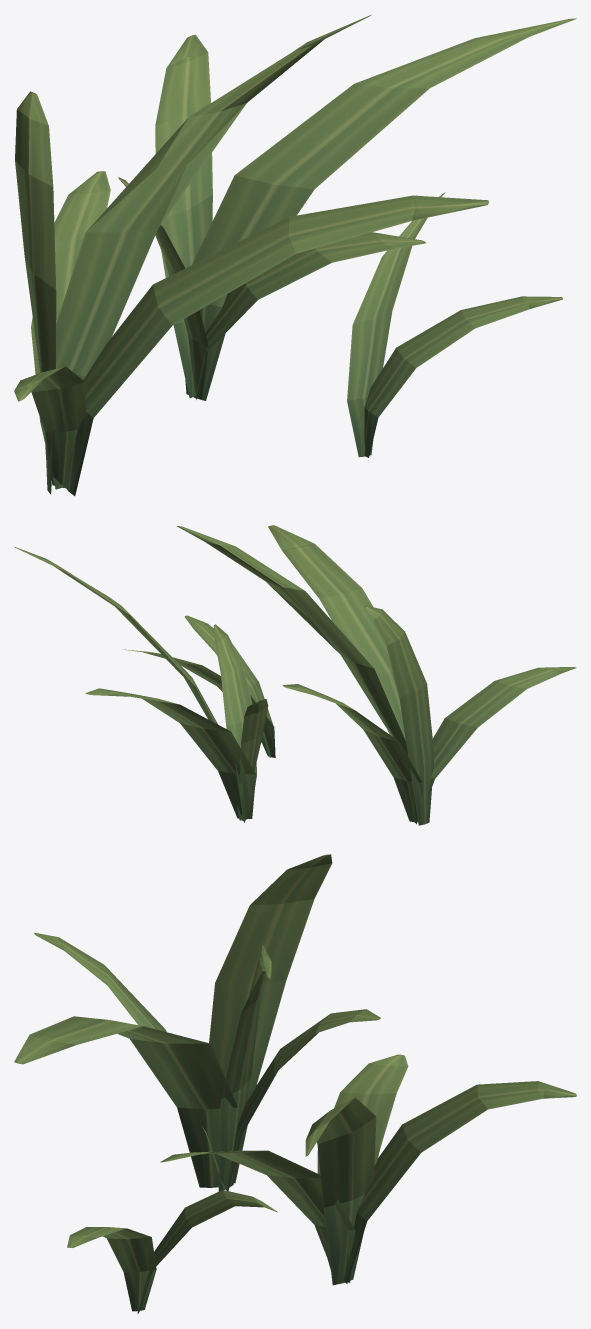
File: SM_ForestWater_RibbonWeed.fbx
The picture shows the model from 3 angles, top to bottom: view 1: azimuth 30°, elevation 25°; view 2: azimuth 150°, elevation 25°; view 3: azimuth 270°, elevation 25°; orthographic projection. The views are drawn at different scales.
Visible parts, largest first — view 1: SM_ForestWater_RibbonWeed; view 2: SM_ForestWater_RibbonWeed; view 3: SM_ForestWater_RibbonWeed.
Boxes of the visible parts, <box> form: SM_ForestWater_RibbonWeed: <box>14,14,576,495</box>; SM_ForestWater_RibbonWeed: <box>14,525,576,825</box>; SM_ForestWater_RibbonWeed: <box>14,854,576,1313</box>.
Bounding box in the file's own units: 54.02 × 38.54 × 27.92.
1 material, 1 textured.
